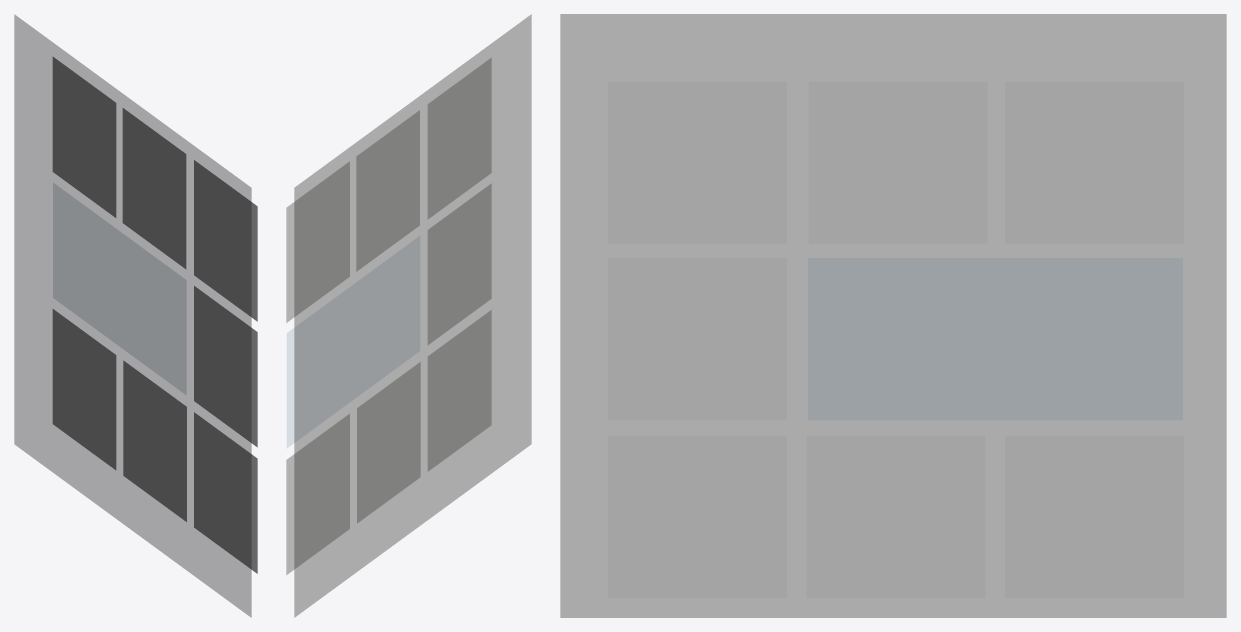
Rendered from btn_rent2x1East.gltf.
3 renders of one model, left to right at view 1: azimuth 30°, elevation 25°; view 2: azimuth 150°, elevation 25°; view 3: azimuth 270°, elevation 25°, orthographic. The views are drawn at different scales.
Visible parts, largest first — view 1: 2x1_bg.001, 23LandTile.003, 13LandTile.003, 33LandTile.004, 13LandTile.004, 11LandTile.003, 31LandTile.003, 21LandTile.002, 32LandTile.003; view 2: 2x1_bg.001, 23LandTile.003, 21LandTile.002, 31LandTile.003, 11LandTile.003, 33LandTile.004, 13LandTile.003, 13LandTile.004, 32LandTile.003; view 3: 2x1_bg.001, 23LandTile.003, 13LandTile.004, 32LandTile.003, 11LandTile.003, 13LandTile.003, 21LandTile.002, 31LandTile.003, 33LandTile.004.
Boxes of the visible parts, x1,y1,x2,y2 form: 2x1_bg.001: (14,14,251,617); 23LandTile.003: (53,183,185,393); 13LandTile.003: (52,57,116,217); 33LandTile.004: (52,309,116,469); 13LandTile.004: (122,108,186,268); 11LandTile.003: (194,160,257,321); 31LandTile.003: (194,412,257,573); 21LandTile.002: (194,286,257,447); 32LandTile.003: (123,360,186,521); 2x1_bg.001: (294,14,531,617); 23LandTile.003: (287,237,419,447); 21LandTile.002: (427,183,491,344); 31LandTile.003: (427,310,491,471); 11LandTile.003: (427,58,491,218); 33LandTile.004: (286,414,349,575); 13LandTile.003: (286,161,349,322); 13LandTile.004: (356,110,419,271); 32LandTile.003: (357,362,420,523); 2x1_bg.001: (560,14,1226,617); 23LandTile.003: (808,258,1182,419); 13LandTile.004: (808,81,987,243); 32LandTile.003: (806,435,985,597); 11LandTile.003: (608,81,786,243); 13LandTile.003: (1005,81,1183,243); 21LandTile.002: (608,258,786,420); 31LandTile.003: (608,435,786,597); 33LandTile.004: (1005,435,1183,597).
Size of what is drawn, in the model's own units: 0.00791 by 0.1401 by 0.1401.
Materials: 3 (2 with a texture image).
